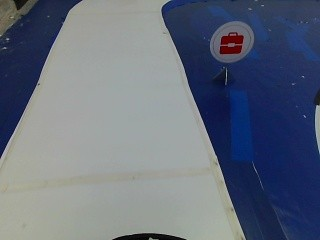company: (212, 22, 252, 62)
